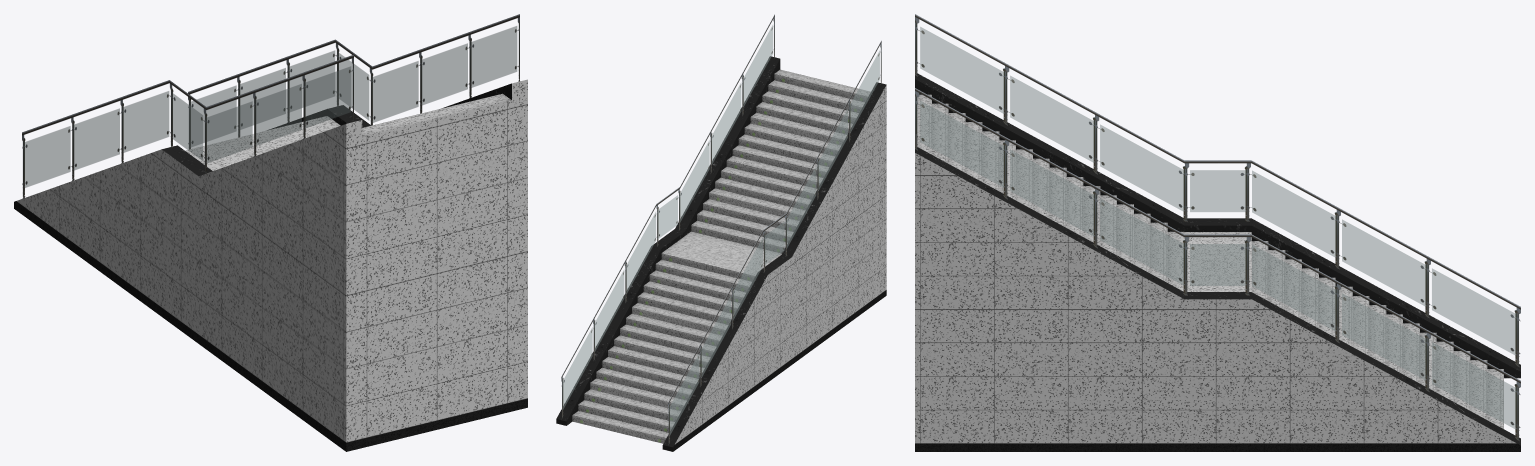
3 renders of one model, left to right at view 1: azimuth 30°, elevation 25°; view 2: azimuth 150°, elevation 25°; view 3: azimuth 270°, elevation 25°, orthographic. The views are drawn at different scales.
Parts seen in each view (by area): view 1: 楼梯; view 2: 楼梯; view 3: 楼梯.
Part boxes in pixels (x1,y1,x2,y2): 楼梯: (14, 14, 527, 451); 楼梯: (556, 14, 886, 451); 楼梯: (915, 14, 1520, 451).
Bounding box in the file's own units: 3.1 × 6.46 × 9.83.
4 materials, 4 textured.
